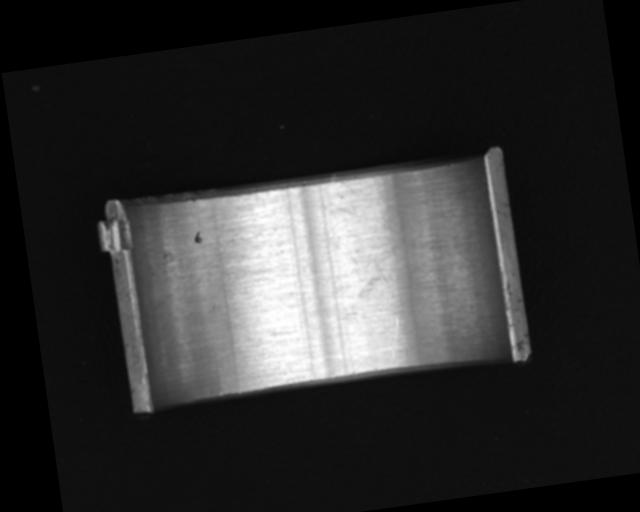blot: (348, 240, 407, 301)
bruise: (191, 228, 205, 245)
nick: (383, 318, 406, 364)
